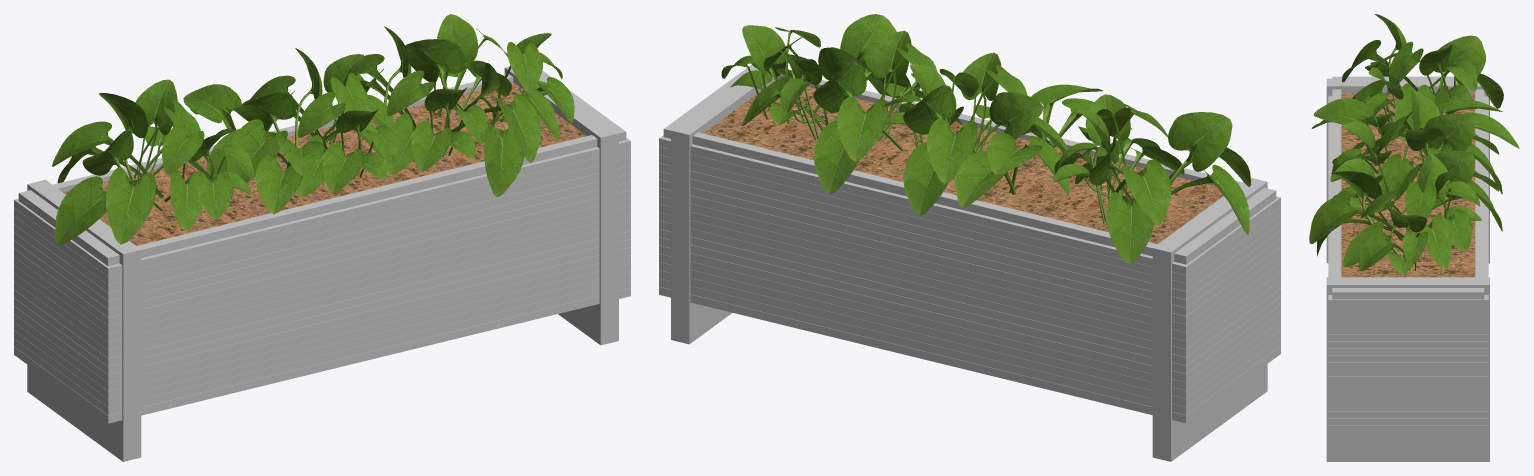
Rendered from plantie.obj.
3 renders of one model, left to right at view 1: azimuth 30°, elevation 25°; view 2: azimuth 150°, elevation 25°; view 3: azimuth 270°, elevation 25°, orthographic. The views are drawn at different scales.
Visible parts, largest first — view 1: Cube.001, Sapling_objArch310.000, Cube.004, Cube.002, Cube, Cube.003; view 2: Cube.001, Sapling_objArch310.000, Cube.004, Cube.002, Cube, Cube.003; view 3: Sapling_objArch310.000, Cube.001, Cube.003, Cube.004, Cube.002, Cube.
Part boxes in pixels (x1,y1,x2,y2): Cube.001: (14, 138, 630, 423); Sapling_objArch310.000: (52, 14, 574, 244); Cube.004: (63, 82, 586, 245); Cube.002: (18, 70, 626, 266); Cube: (27, 179, 141, 461); Cube.003: (504, 66, 618, 345); Cube.001: (659, 135, 1280, 423); Sapling_objArch310.000: (721, 14, 1251, 264); Cube.004: (703, 79, 1223, 244); Cube.002: (663, 64, 1276, 264); Cube: (1152, 177, 1267, 461); Cube.003: (671, 67, 785, 344); Sapling_objArch310.000: (1309, 14, 1519, 274); Cube.001: (1328, 96, 1488, 432); Cube.003: (1326, 277, 1489, 461); Cube.004: (1341, 93, 1475, 277); Cube.002: (1332, 76, 1484, 299); Cube: (1326, 78, 1489, 263).
Bounding box in the file's own units: 68.89 × 37.31 × 27.7.
3 materials, 2 textured.
